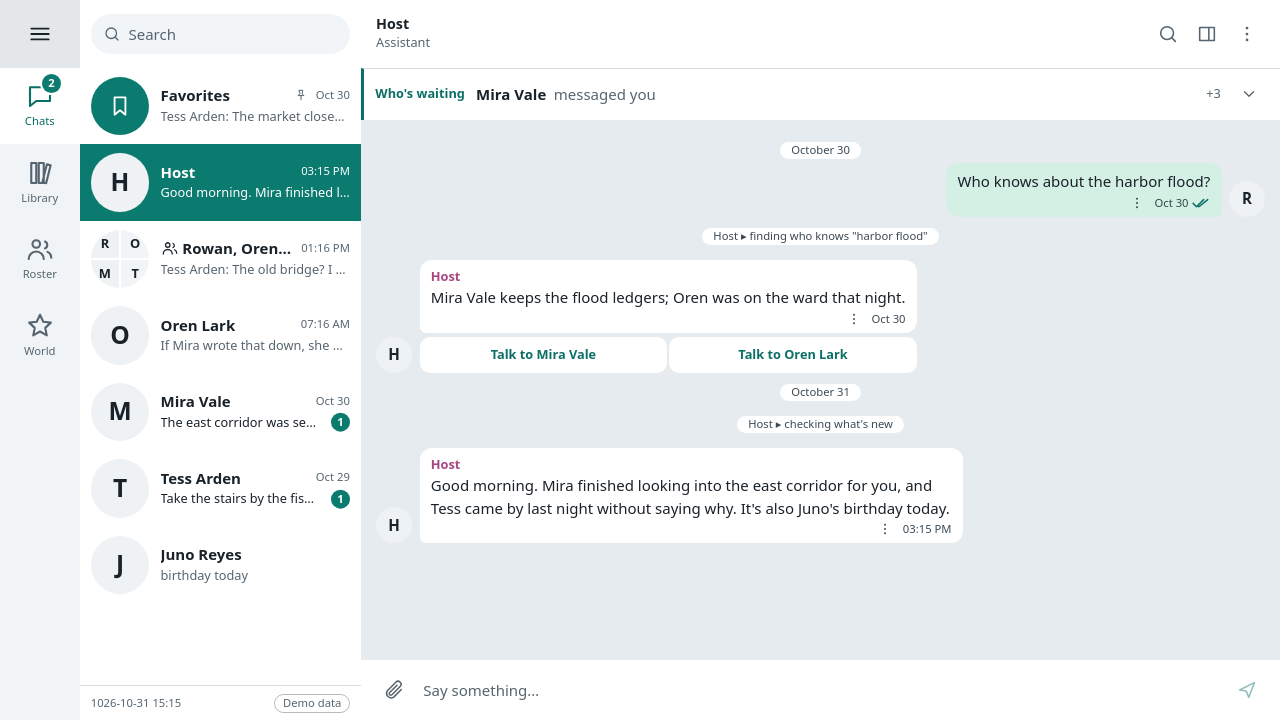
Scenario: a release found earlier shows in the drawer at once
The image size is (1280, 720).
Expected: the heading "Who's waiting" is shown, [375,86,465,102]
Click the button named "Menu". click: point(40, 34)
box: [0,0,80,68]
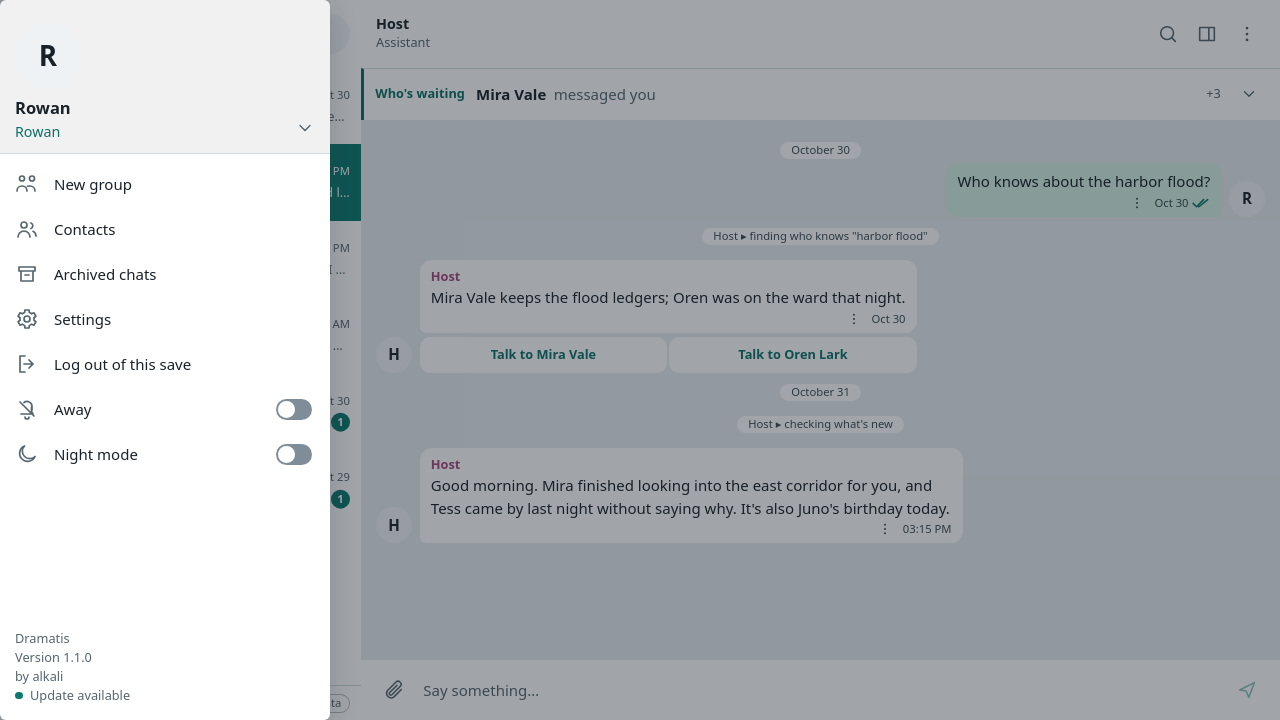
Now the text "Update available" is shown, box [15,686,130,705]
